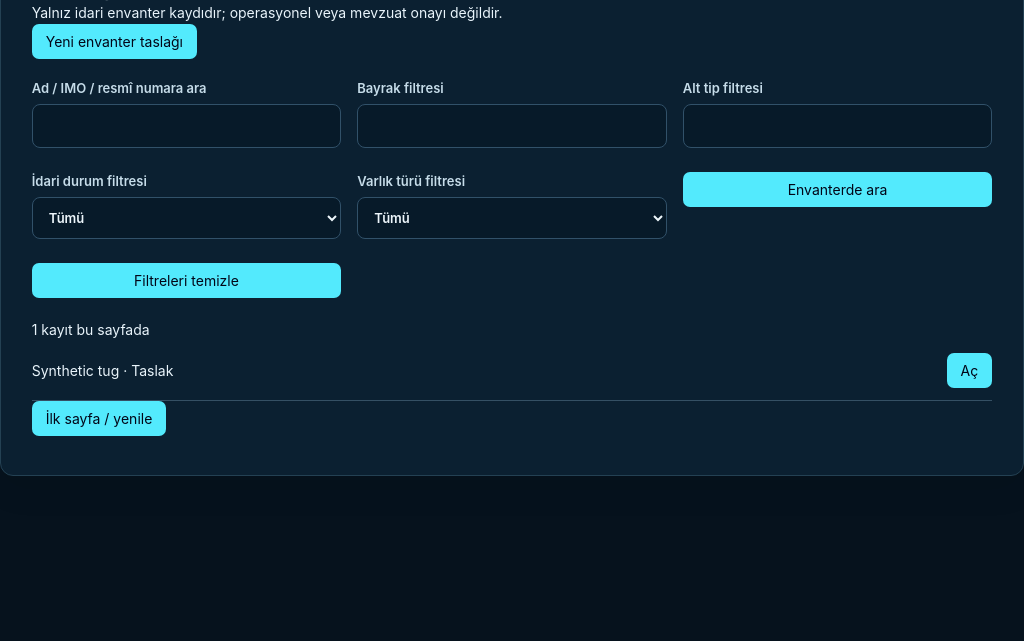
Test: administrative inventory UI › records explicitly and requires reason for reopen; mode is locked when recorded
Click the button "Aç".
click(969, 371)  # box [947,353,992,388]
(page scrolled)
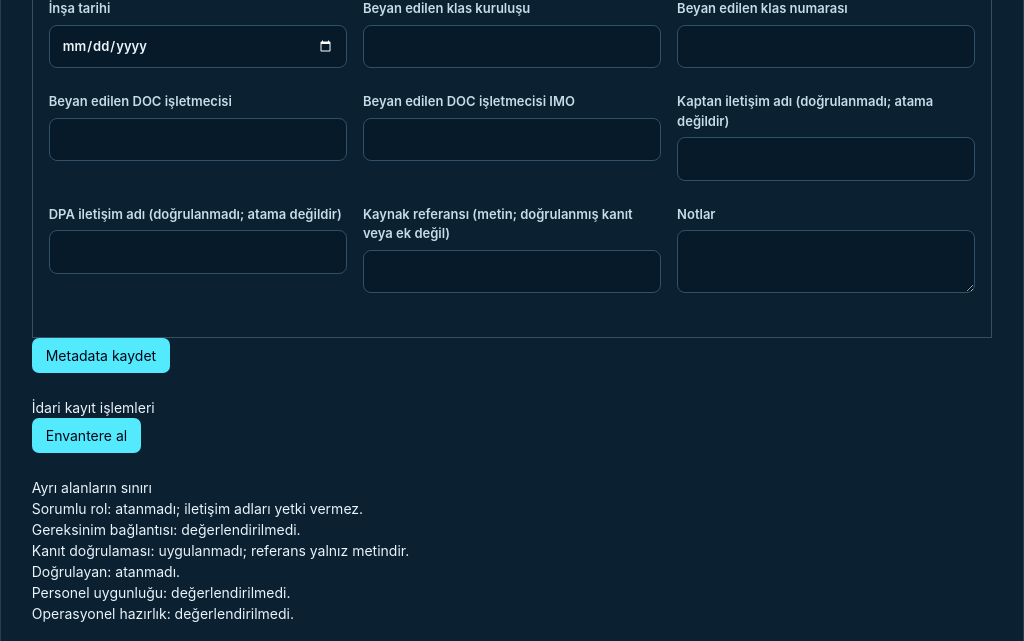
Click the button "Envantere al".
click(86, 436)  # box [32,418,141,453]
(page scrolled)
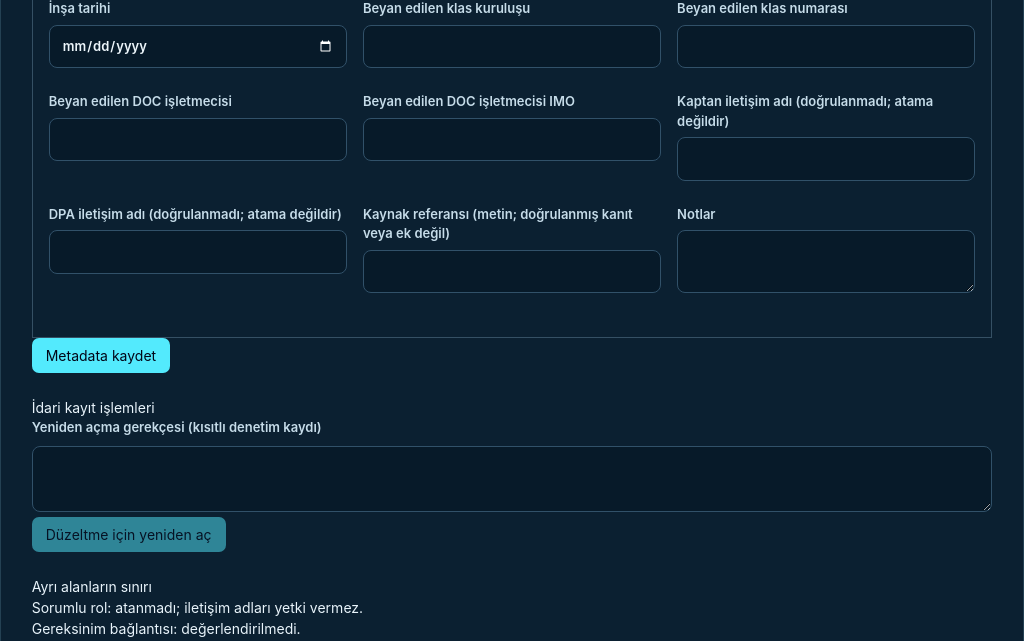
Now the button "Düzeltme için yeniden aç" is disabled, box [32,517,226,552]
Type "Correct declared metadata" into the text box labelled "Yeniden açma gerekçesi (kısıtlı denetim kaydı)".
click(512, 479); type("Correct declared metadata")  # box [32,446,992,512]
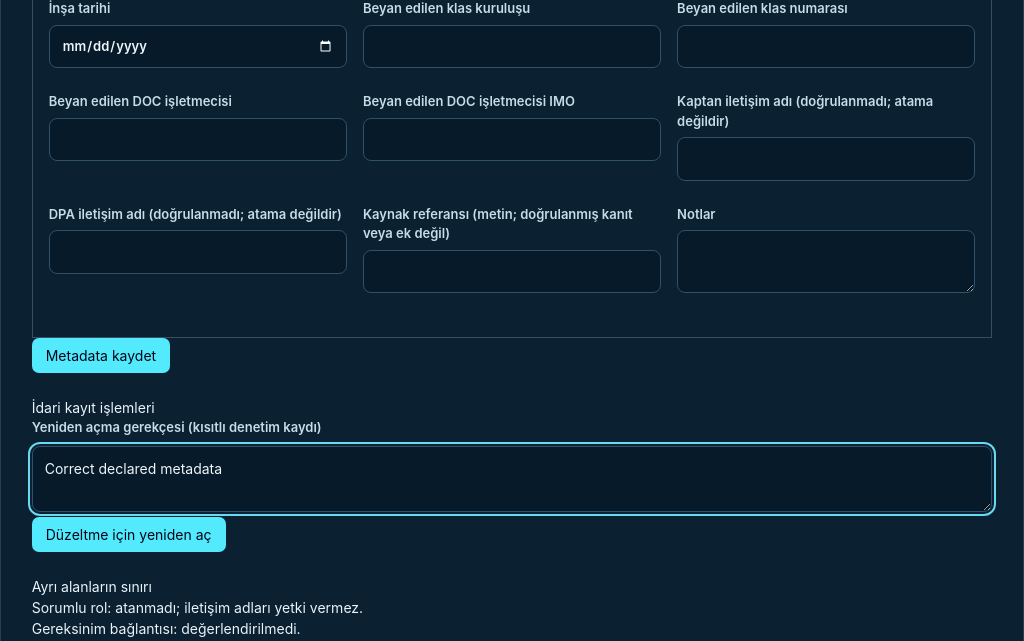
Click the button "Düzeltme için yeniden aç".
click(129, 534)  # box [32,517,226,552]
(page scrolled)
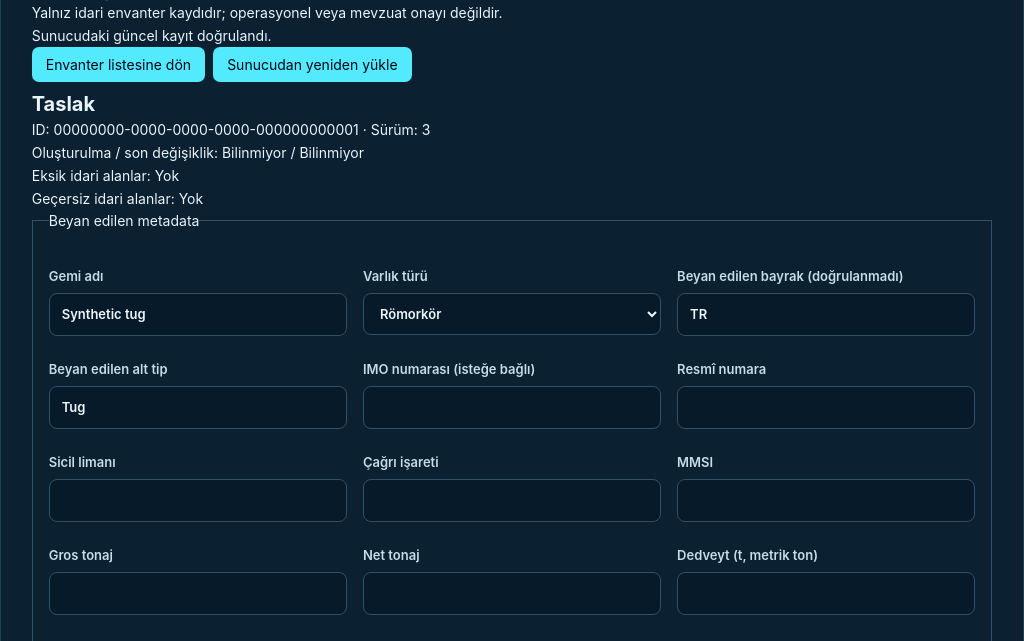
Now the dropdown labelled "Varlık türü" is enabled, box [363,293,661,335]
